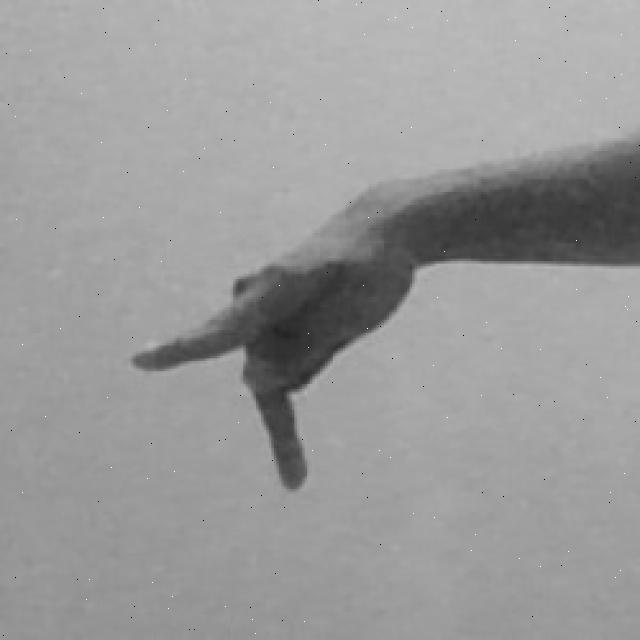P: (128, 126, 640, 497)
